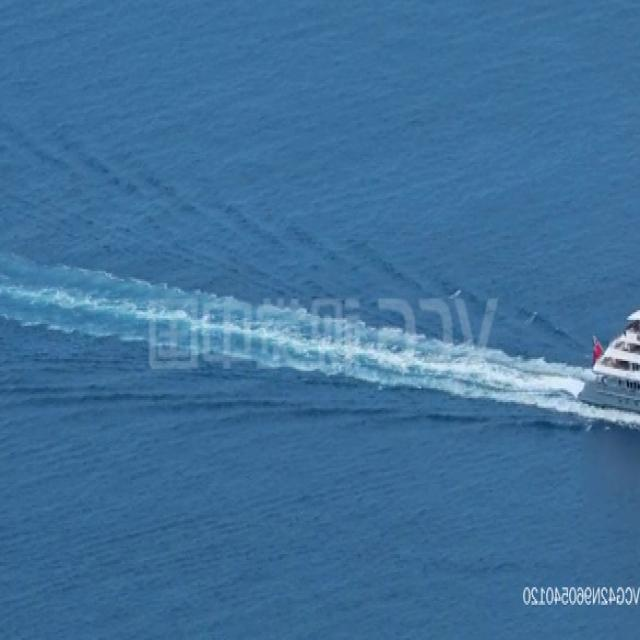passenger ship: (579, 262, 640, 416)
